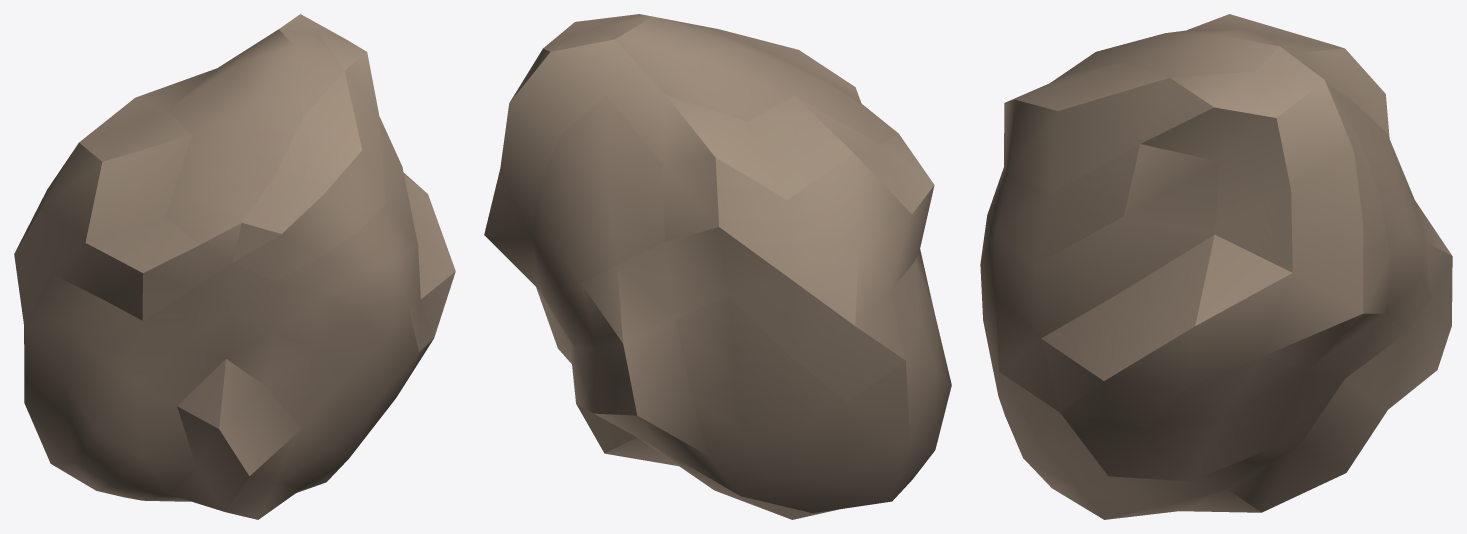
The model's file is Rock_3_N_Color3.fbx.
3 views of the same model, side by side, from view 1: azimuth 30°, elevation 25°; view 2: azimuth 150°, elevation 25°; view 3: azimuth 270°, elevation 25° (orthographic). The views are drawn at different scales.
Visible parts, largest first — view 1: Rock_3_N_Color3; view 2: Rock_3_N_Color3; view 3: Rock_3_N_Color3.
Part boxes in pixels (box(x1,y1,x2,y2)): Rock_3_N_Color3: box(14, 14, 455, 519); Rock_3_N_Color3: box(484, 14, 951, 519); Rock_3_N_Color3: box(980, 14, 1452, 519).
Bounding box in the file's own units: 3.42 × 3.53 × 2.98.
